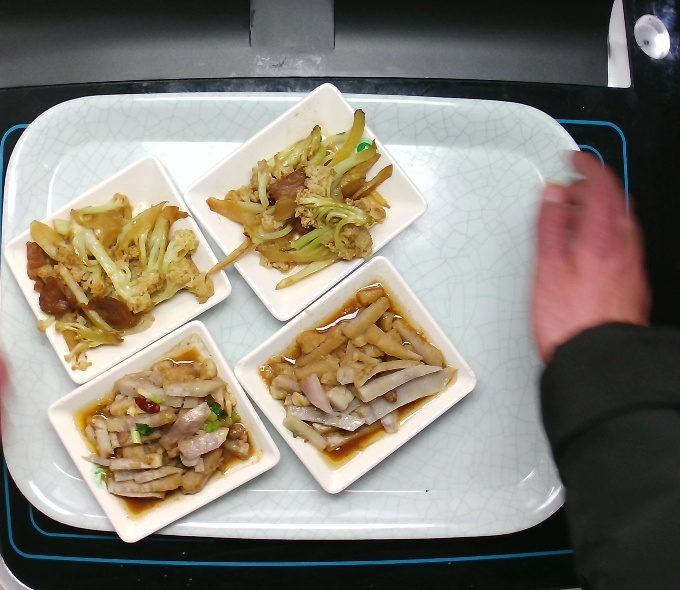wcq-QiuCaiChaoRou: (201, 105, 397, 291), (22, 190, 218, 374)
wcq-YuTou: (256, 282, 458, 459), (79, 354, 253, 510)
